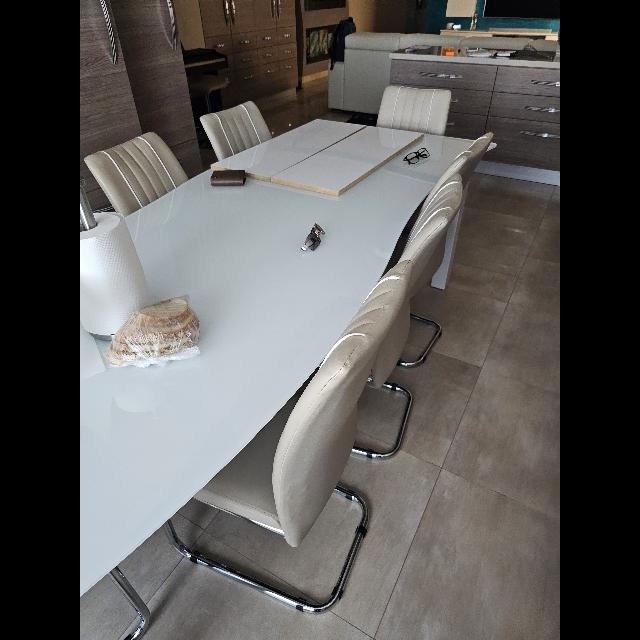Sunglasses: (301, 223, 325, 251)
Wallet: (210, 170, 246, 187)
glasses: (404, 148, 430, 164)
